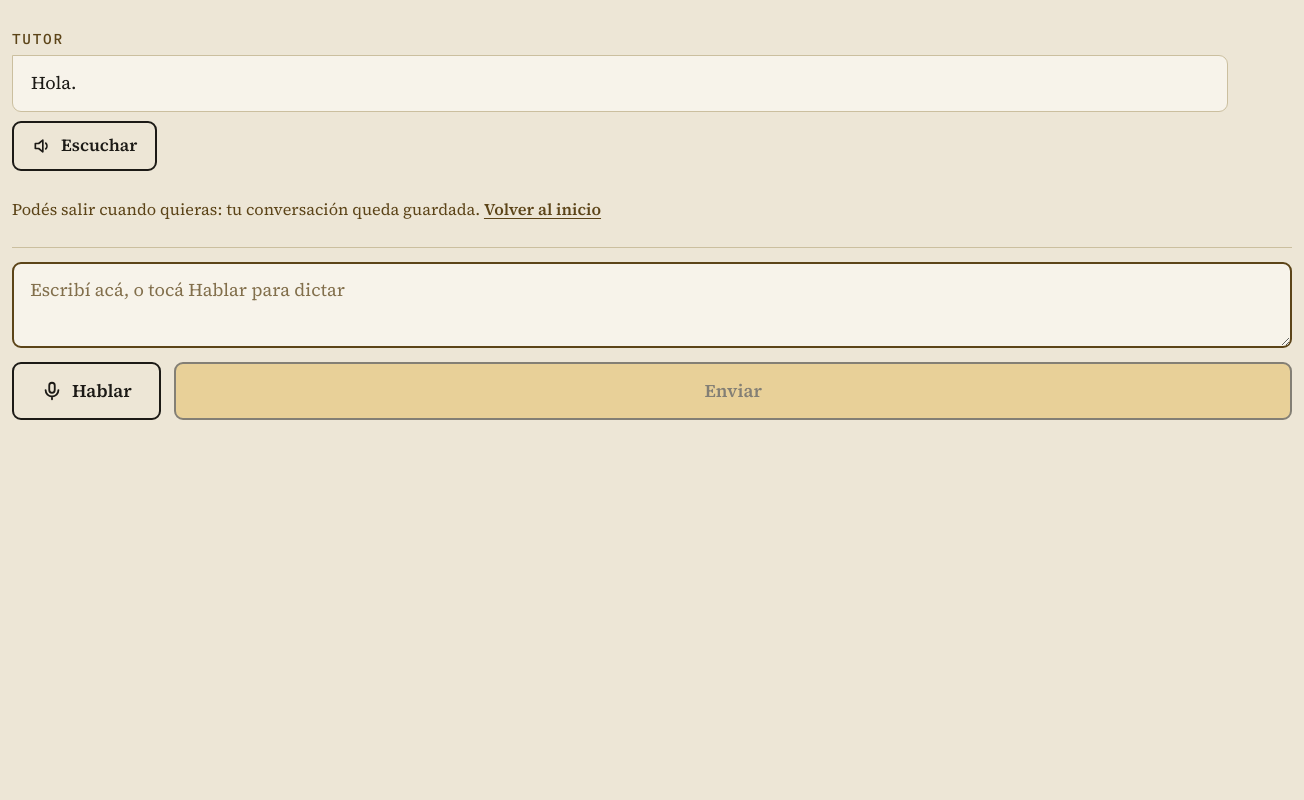
Test: Chat › manda lo que escribe la persona y muestra la respuesta
The width and height of the screenshot is (1304, 800).
expect the text "Hola." is shown: met, box x1=31 y1=70 x2=76 y2=95
Type "Una agenda de sueños" into the text box named "tu mensaje".
click(652, 305); type("Una agenda de sueños")  # box x1=12 y1=262 x2=1292 y2=348
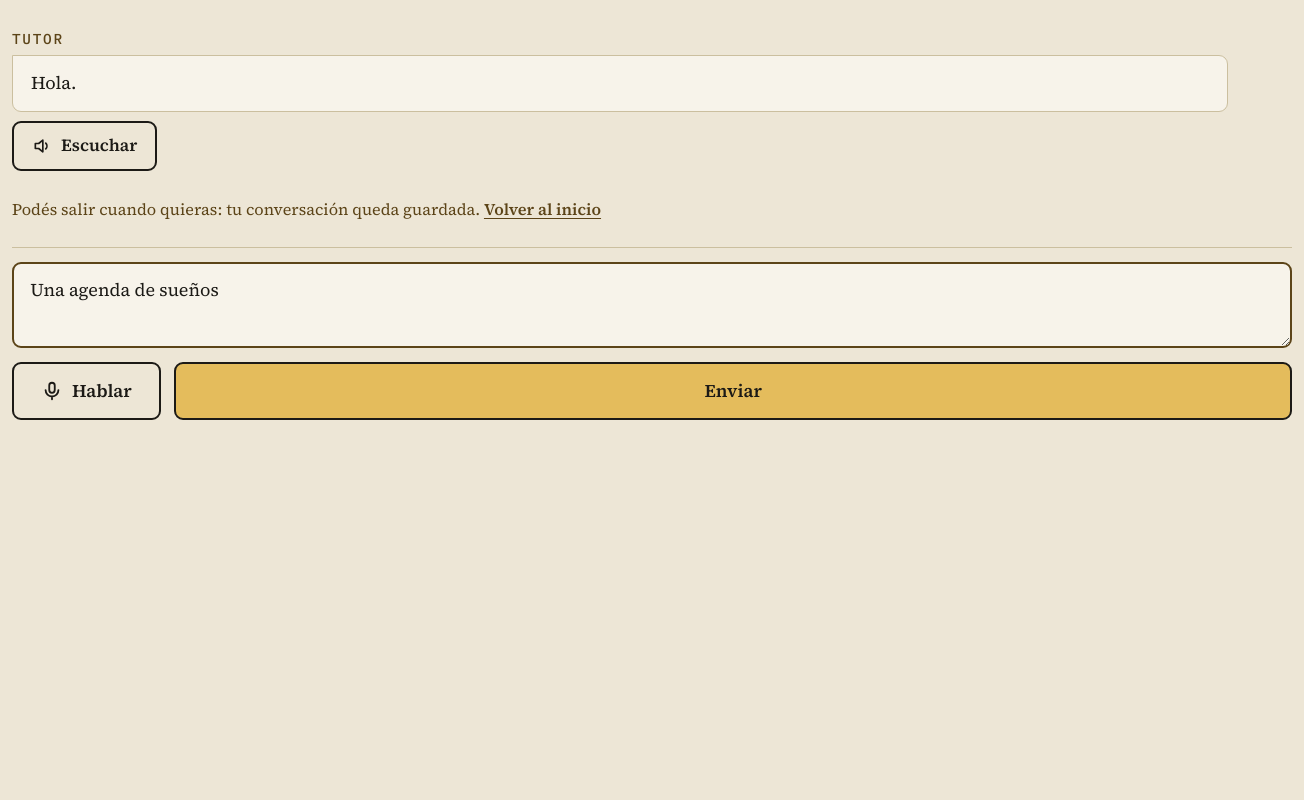
Click the button "Enviar".
click(733, 391)  # box x1=174 y1=362 x2=1292 y2=420
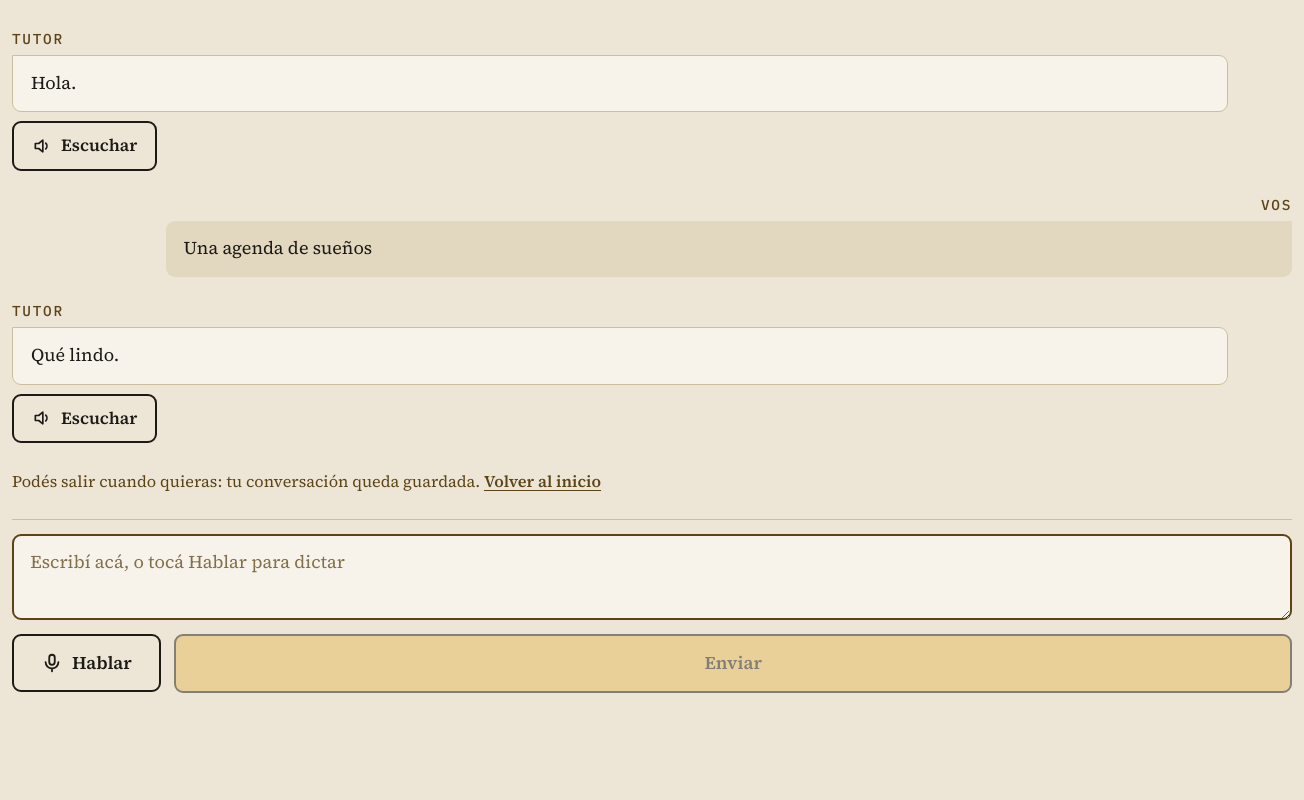
expect the text "Una agenda de sueños" is shown: met, box x1=184 y1=235 x2=372 y2=260
expect the text "Qué lindo." is shown: met, box x1=31 y1=342 x2=119 y2=367
expect the text box named "tu mensaje" is empty: met, box x1=12 y1=534 x2=1292 y2=621
